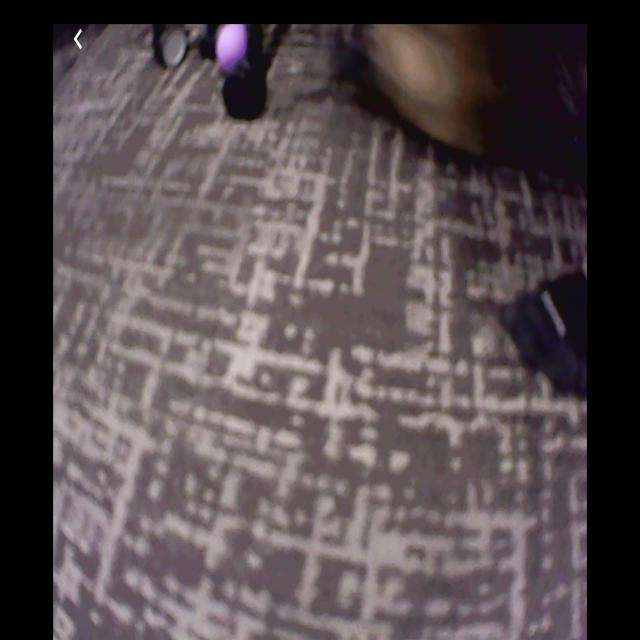ball: (215, 26, 247, 72)
